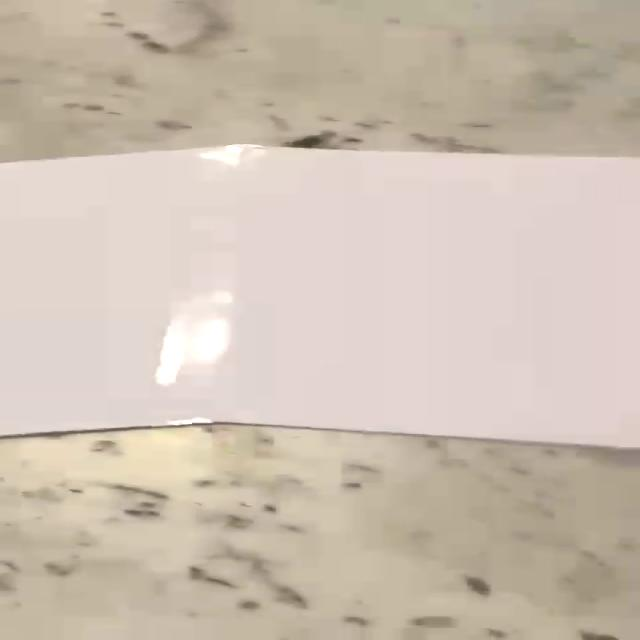road: (0, 145, 635, 448)
